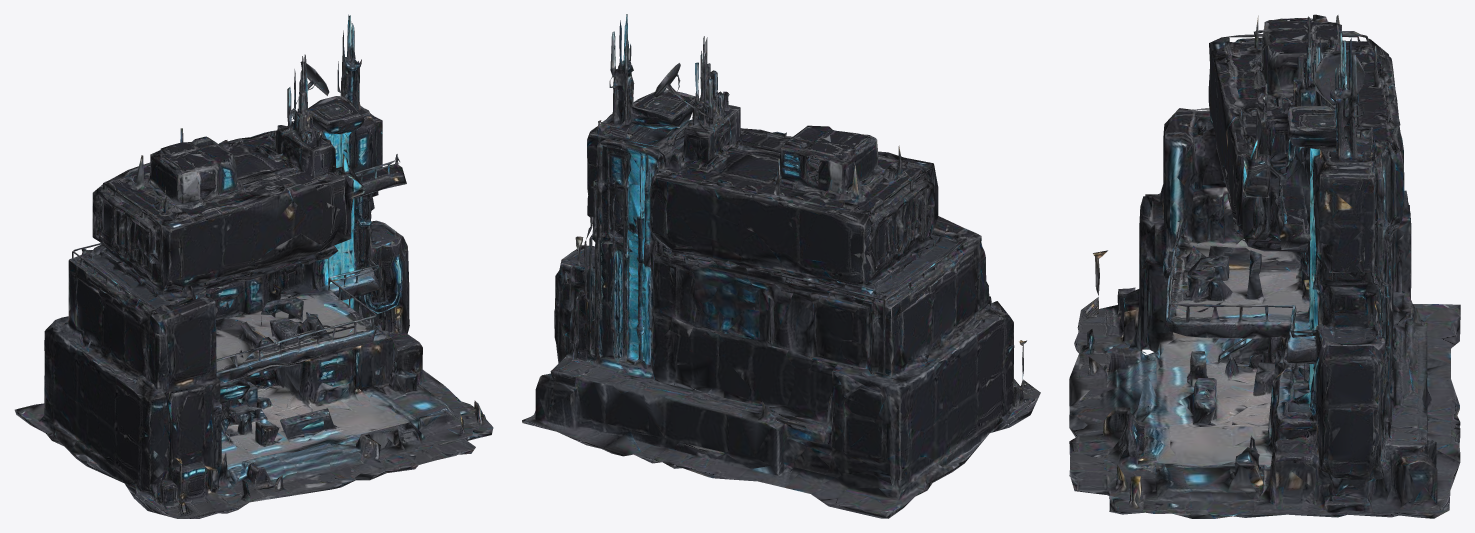
Rendered from code-space-lab.glb.
The picture shows the model from 3 angles, left to right: view 1: azimuth 30°, elevation 25°; view 2: azimuth 150°, elevation 25°; view 3: azimuth 270°, elevation 25°; orthographic projection. The views are drawn at different scales.
Size of the model in its own units: 1.9 by 1.9 by 1.49.
1 material, 1 textured.
